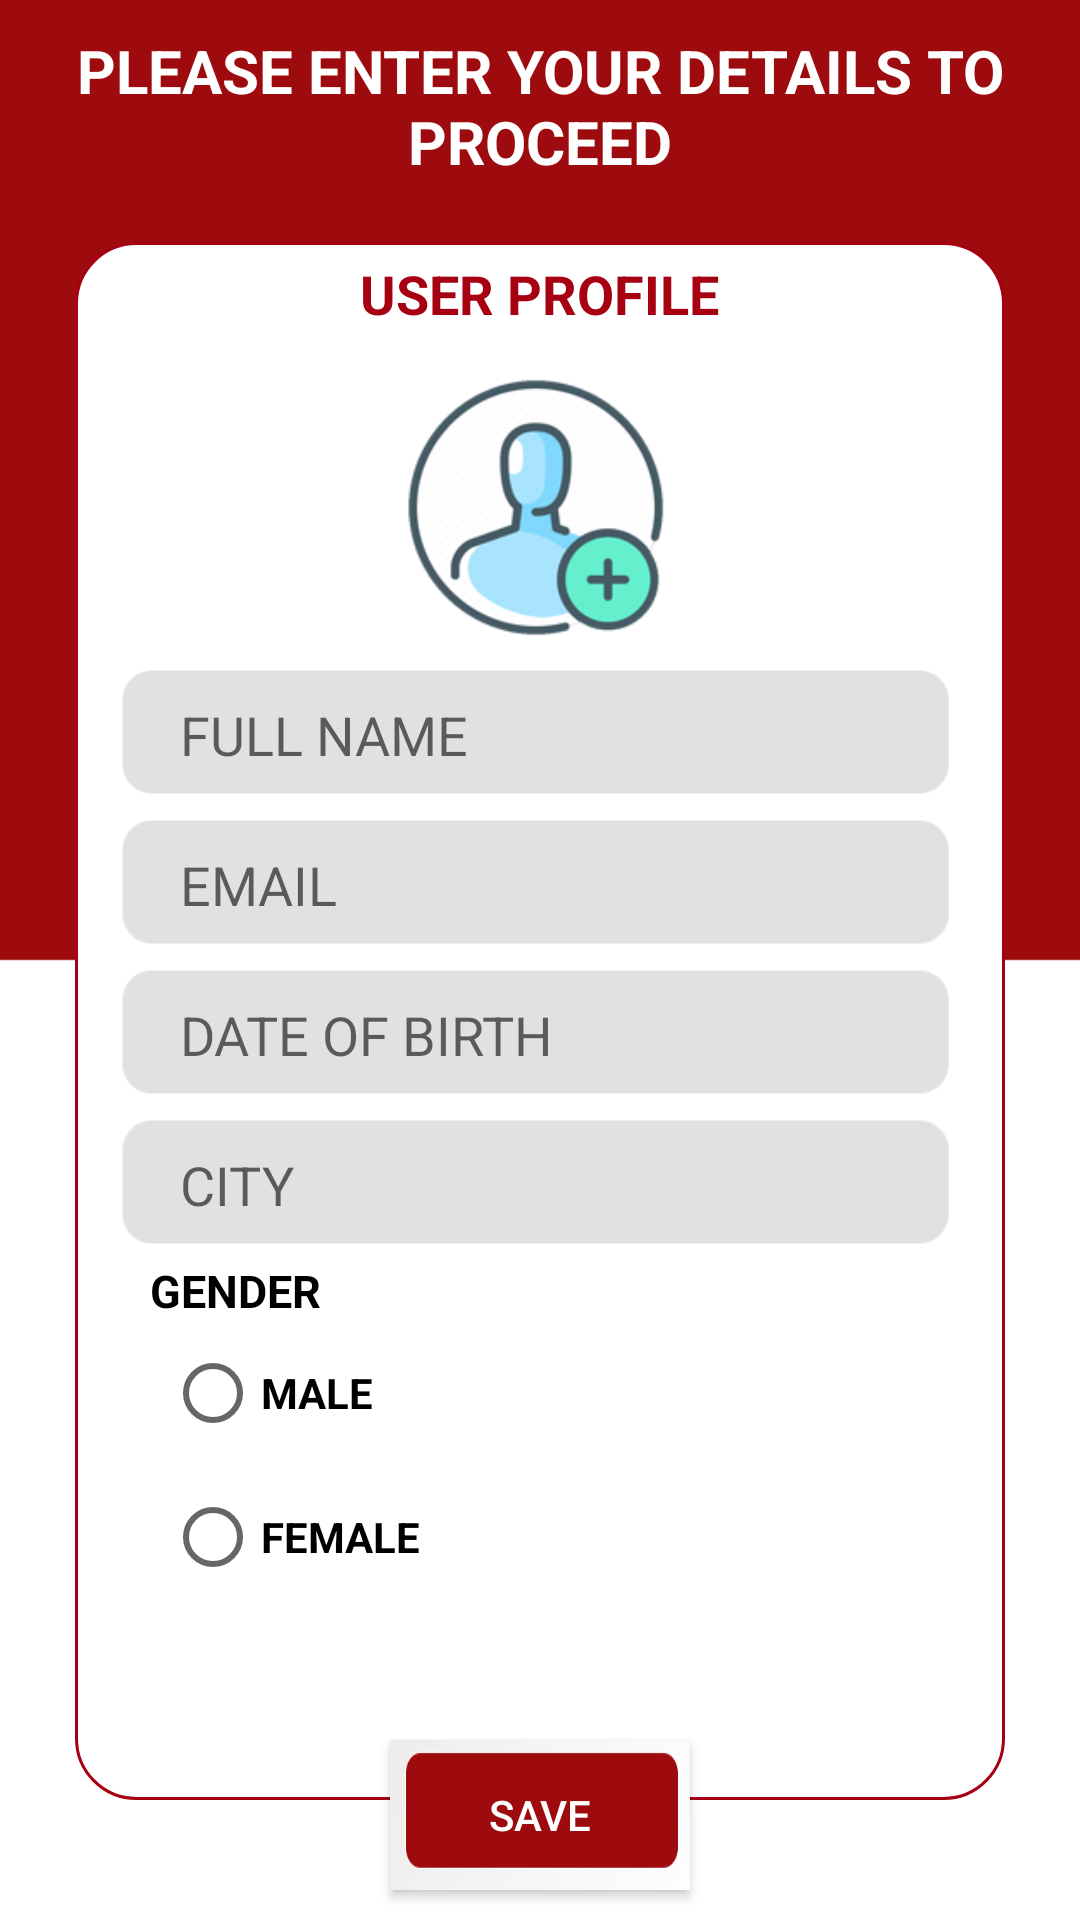

Icons on this 1080x1920 Android screen, each with the point to tap as (x=x, y=y):
profilesample: (x=536, y=507)
